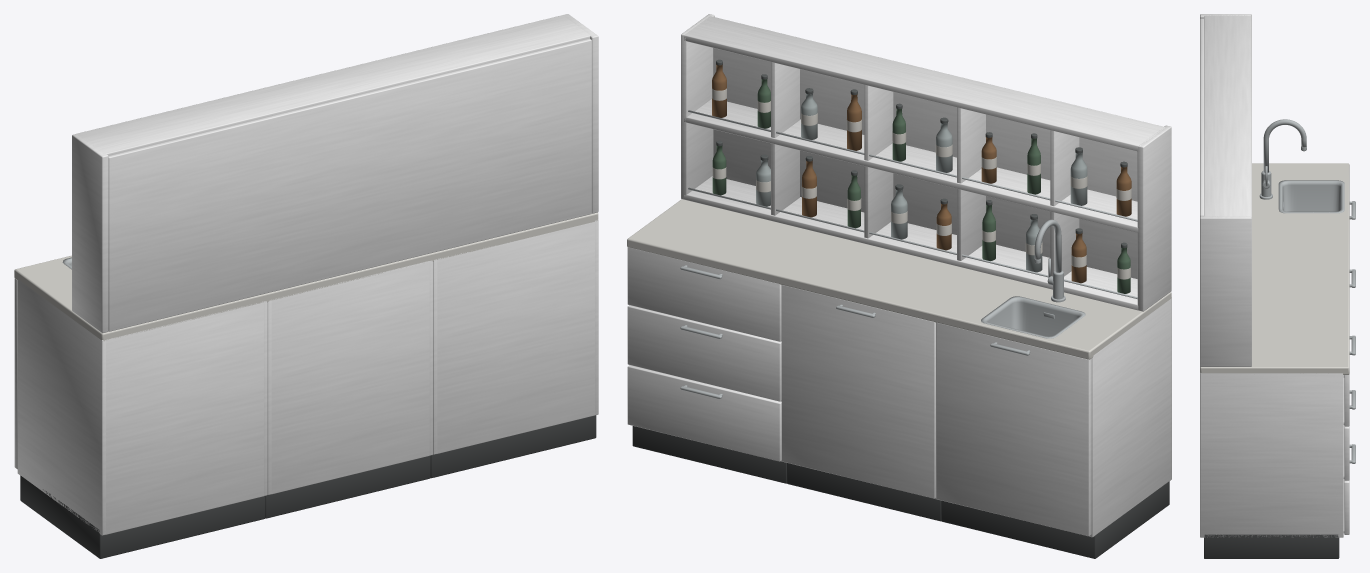
File: bar-display-detailed.glb
3 renders of one model, left to right at view 1: azimuth 30°, elevation 25°; view 2: azimuth 150°, elevation 25°; view 3: azimuth 270°, elevation 25°, orthographic. The views are drawn at different scales.
Parts seen in each view (by area): view 1: Recessed display backing, Kitchen cabinet back.001, Kitchen cabinet back, Kitchen cabinet back.002, Kitchen cabinet side, Bar bottle display shelf.002, Bar display upright, Continuous bar counter, Continuous cabinet floor plinth, Continuous cabinet floor plinth.002, Continuous cabinet floor plinth.001, Bar display upright.001 (+6 smaller); view 2: Separate cabinet door, Separate cabinet door.001, Continuous bar counter, Recessed display backing, Kitchen cabinet side, Bar bottle display shelf.002, Bar bottle display shelf.001, Separate kitchen drawer front, Separate kitchen drawer front.001, Bar bottle display shelf, Separate kitchen drawer front.002, Bar display upright (+12 smaller); view 3: Kitchen cabinet side.005, Continuous bar counter, Bar bottle display shelf.002, Bar display upright.001, Continuous cabinet floor plinth.002, Rounded stainless bowl and rim, Recessed display backing, Continuous arched faucet spout, Separate kitchen drawer front, Separate kitchen drawer front.001, Separate kitchen drawer front.002, Faucet mixer body.
Part boxes in pixels (box(x1,y1,x2,y2)): Recessed display backing: box(108, 38, 591, 331); Kitchen cabinet back.001: box(271, 261, 429, 494); Kitchen cabinet back: box(106, 301, 263, 534); Kitchen cabinet back.002: box(437, 222, 595, 453); Kitchen cabinet side: box(17, 279, 105, 535); Bar bottle display shelf.002: box(76, 15, 590, 155); Bar display upright: box(72, 134, 108, 333); Continuous bar counter: box(14, 212, 598, 341); Continuous cabinet floor plinth: box(20, 475, 265, 558); Continuous cabinet floor plinth.002: box(430, 415, 596, 478); Continuous cabinet floor plinth.001: box(265, 455, 430, 518); Bar display upright.001: box(563, 14, 598, 213); Separate cabinet door: box(936, 322, 1091, 536); Separate cabinet door.001: box(781, 285, 935, 498); Continuous bar counter: box(627, 199, 1171, 359); Recessed display backing: box(713, 48, 1137, 278); Kitchen cabinet side: box(1089, 298, 1171, 537); Bar bottle display shelf.002: box(683, 16, 1165, 151); Bar bottle display shelf.001: box(684, 99, 1138, 232); Separate kitchen drawer front: box(627, 365, 781, 461); Separate kitchen drawer front.001: box(627, 305, 781, 401); Bar bottle display shelf: box(684, 176, 1139, 310); Separate kitchen drawer front.002: box(627, 247, 781, 341); Bar display upright: box(1137, 125, 1171, 311); Kitchen cabinet side.005: box(1200, 372, 1343, 537); Continuous bar counter: box(1200, 163, 1349, 374); Bar bottle display shelf.002: box(1204, 15, 1251, 216); Bar display upright.001: box(1200, 215, 1251, 366); Continuous cabinet floor plinth.002: box(1204, 534, 1339, 558); Rounded stainless bowl and rim: box(1278, 180, 1344, 213); Recessed display backing: box(1200, 18, 1203, 216); Continuous arched faucet spout: box(1263, 119, 1306, 172); Separate kitchen drawer front: box(1344, 480, 1349, 534); Separate kitchen drawer front.001: box(1344, 426, 1349, 480); Separate kitchen drawer front.002: box(1344, 374, 1349, 426); Faucet mixer body: box(1261, 171, 1271, 196).
Size of the model in its own units: 2.06 by 1.6 by 0.662.
Materials: 10 (1 with a texture image).
